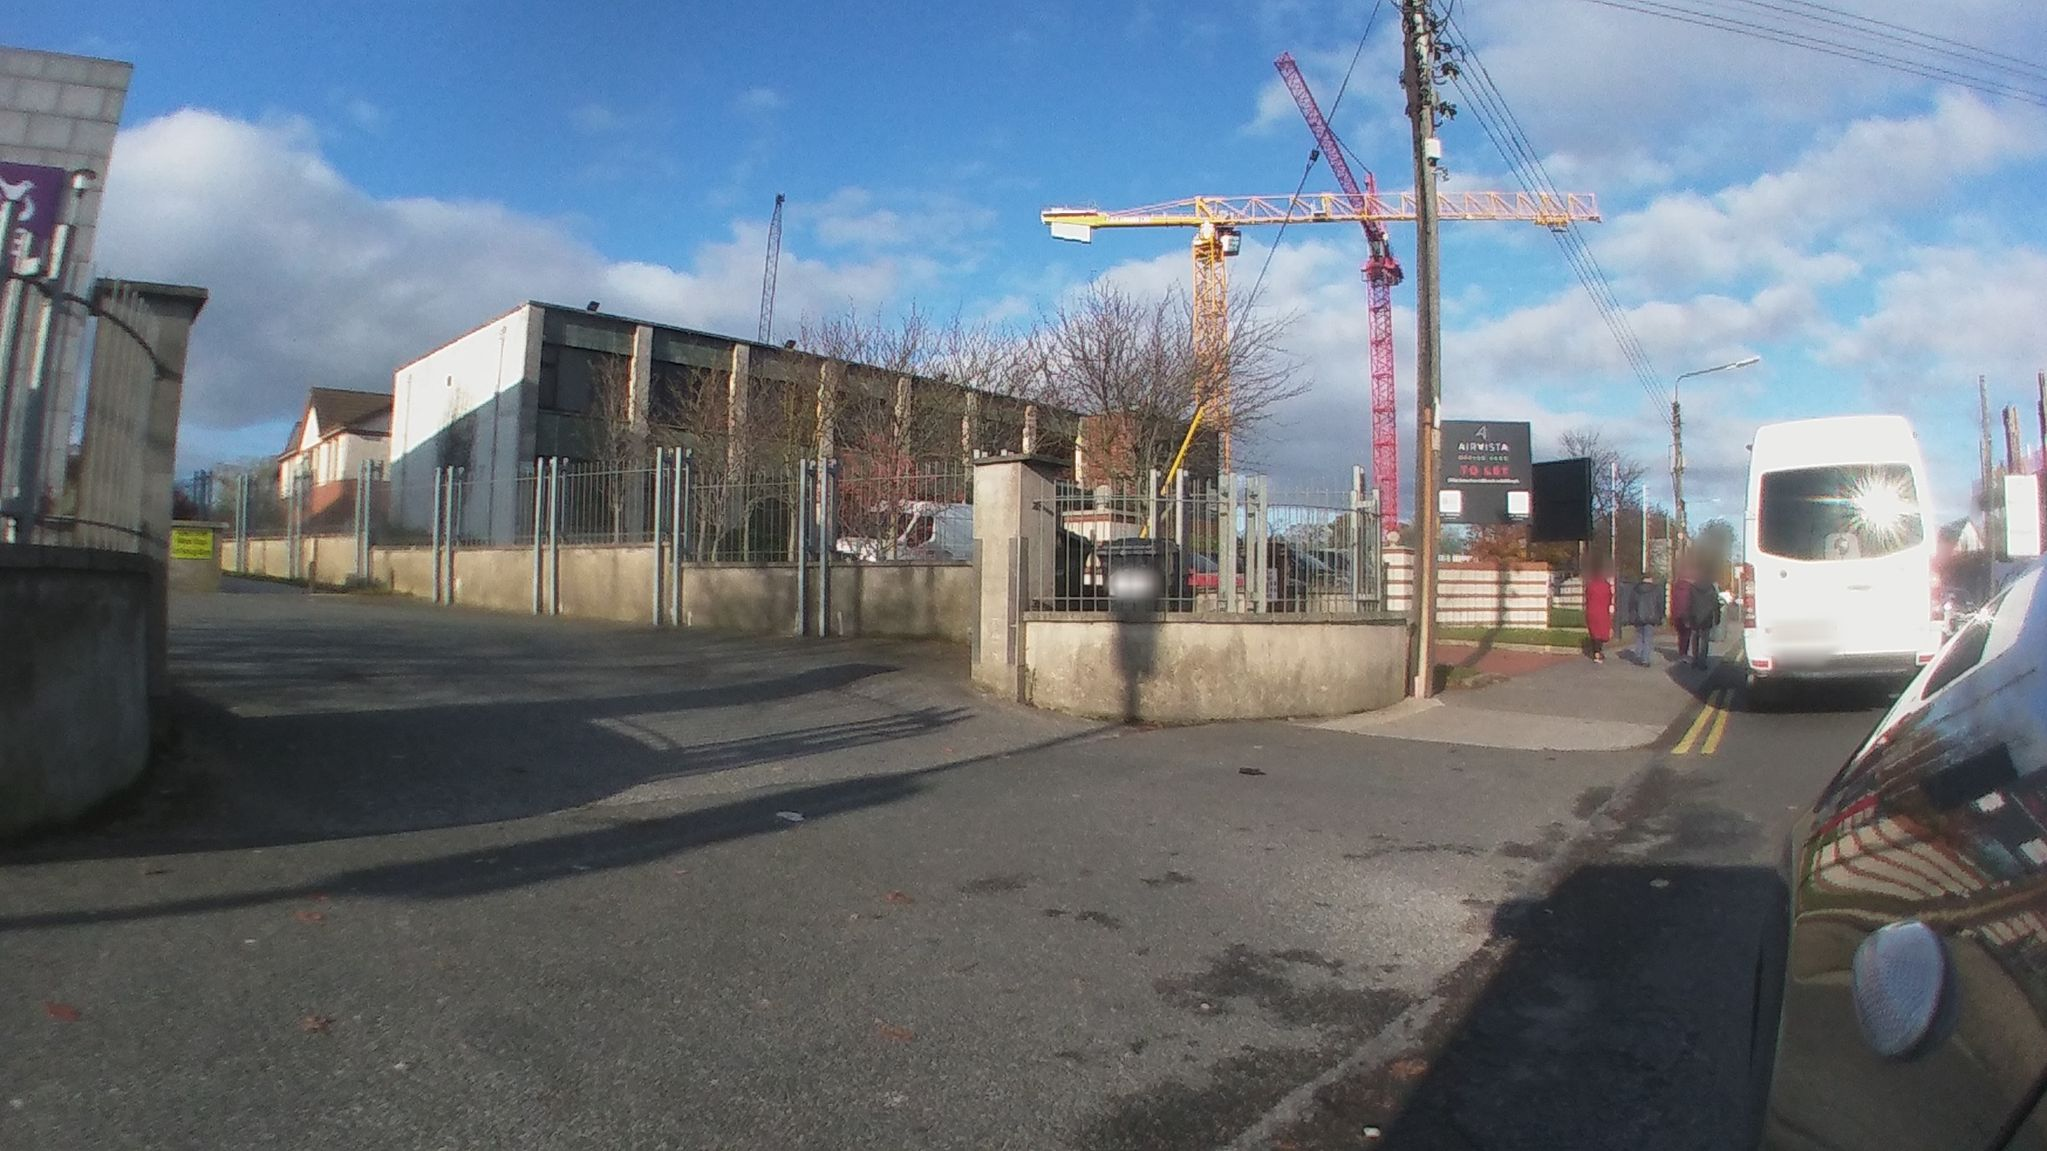property sign: (1430, 402, 1559, 540)
